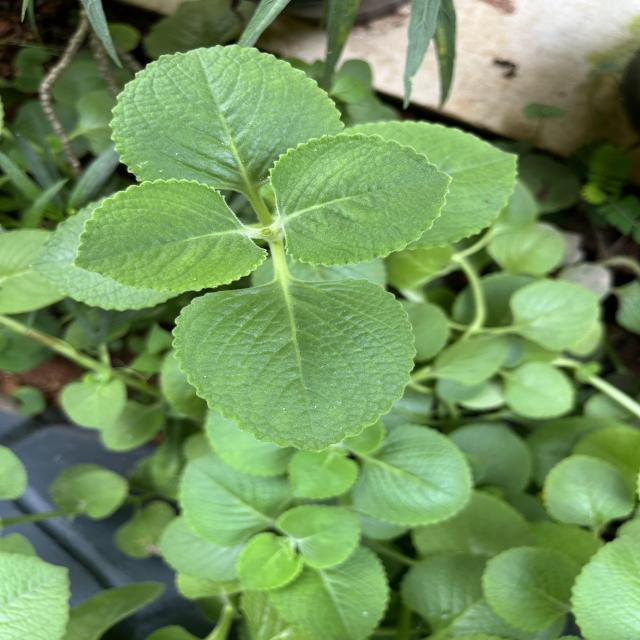Plectranthus barbatus: (170, 275, 418, 454), (107, 41, 348, 186), (268, 131, 454, 269), (71, 178, 270, 295), (352, 422, 474, 526), (268, 543, 392, 640), (178, 456, 292, 546), (482, 546, 582, 632), (542, 452, 635, 526), (277, 505, 363, 569), (237, 532, 304, 590), (286, 448, 359, 499)
